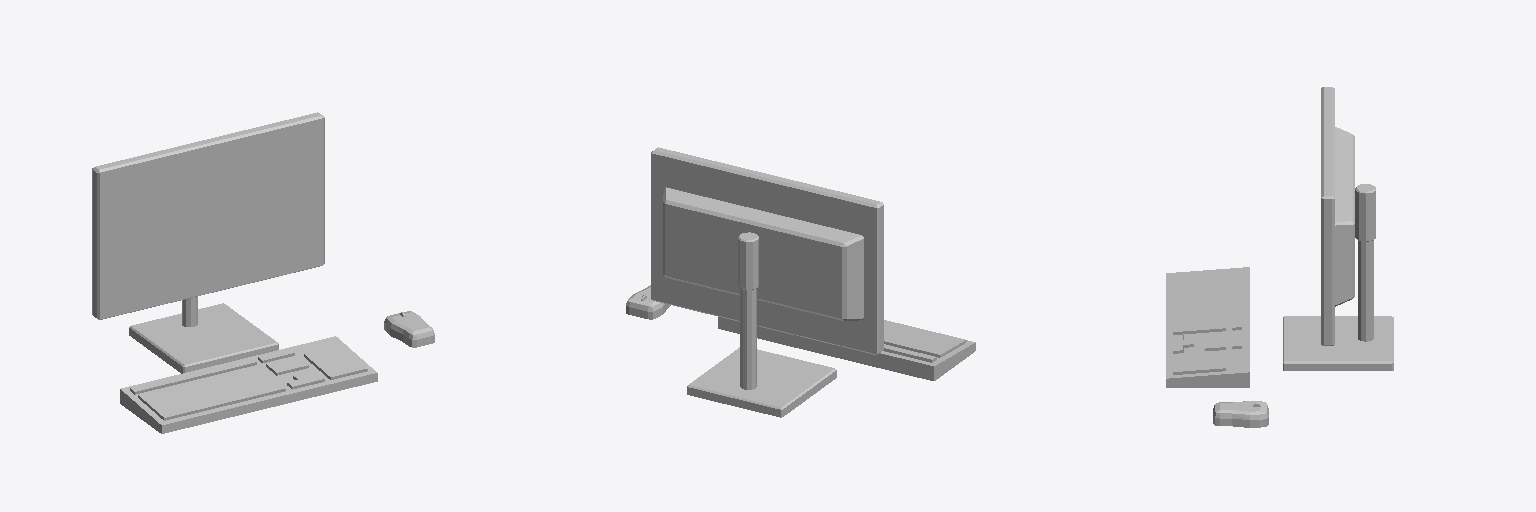
File: desktop_computer.obj
The picture shows the model from 3 angles: view 1: azimuth 30°, elevation 25°; view 2: azimuth 150°, elevation 25°; view 3: azimuth 270°, elevation 25°; orthographic projection.
Parts seen in each view (by area): view 1: defaultMaterial.004, defaultMaterial.005, defaultMaterial.002, defaultMaterial.001; view 2: defaultMaterial.004, defaultMaterial.002, defaultMaterial.005, defaultMaterial.003, defaultMaterial.001; view 3: defaultMaterial.005, defaultMaterial.004, defaultMaterial.002, defaultMaterial.003, defaultMaterial.001.
Boxes of the visible parts, box(x1,y1,x2,y2) form: defaultMaterial.004: box(92, 112, 324, 319); defaultMaterial.005: box(120, 336, 377, 433); defaultMaterial.002: box(129, 303, 278, 373); defaultMaterial.001: box(384, 311, 434, 347); defaultMaterial.004: box(651, 147, 883, 354); defaultMaterial.002: box(687, 347, 836, 417); defaultMaterial.005: box(718, 317, 975, 380); defaultMaterial.003: box(738, 232, 758, 389); defaultMaterial.001: box(626, 285, 670, 319); defaultMaterial.005: box(1166, 267, 1249, 387); defaultMaterial.004: box(1321, 87, 1354, 345); defaultMaterial.002: box(1283, 316, 1393, 370); defaultMaterial.003: box(1355, 184, 1375, 341); defaultMaterial.001: box(1213, 401, 1268, 427).
Size of the model in its own units: 2 by 1.31 by 1.3.